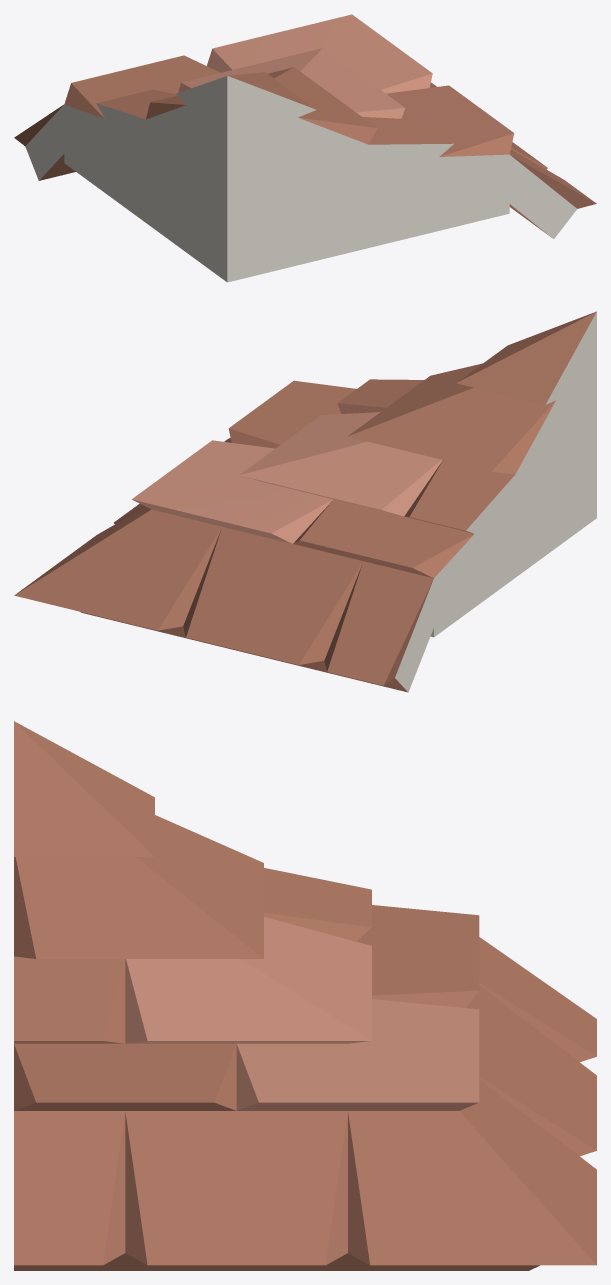
File: Roof_Concave_Corner_Outer_Eave.glb
The picture shows the model from 3 angles, top to bottom: view 1: azimuth 30°, elevation 25°; view 2: azimuth 150°, elevation 25°; view 3: azimuth 270°, elevation 25°; orthographic projection. The views are drawn at different scales.
Visible parts, largest first — view 1: object1; view 2: object1; view 3: object1.
Boxes of the visible parts, left/top/right/bottom form: object1: left=14, top=14, right=596, bottom=282; object1: left=14, top=311, right=596, bottom=692; object1: left=14, top=721, right=596, bottom=1270.
Size of the model in its own units: 1.31 by 0.8233 by 1.31.
